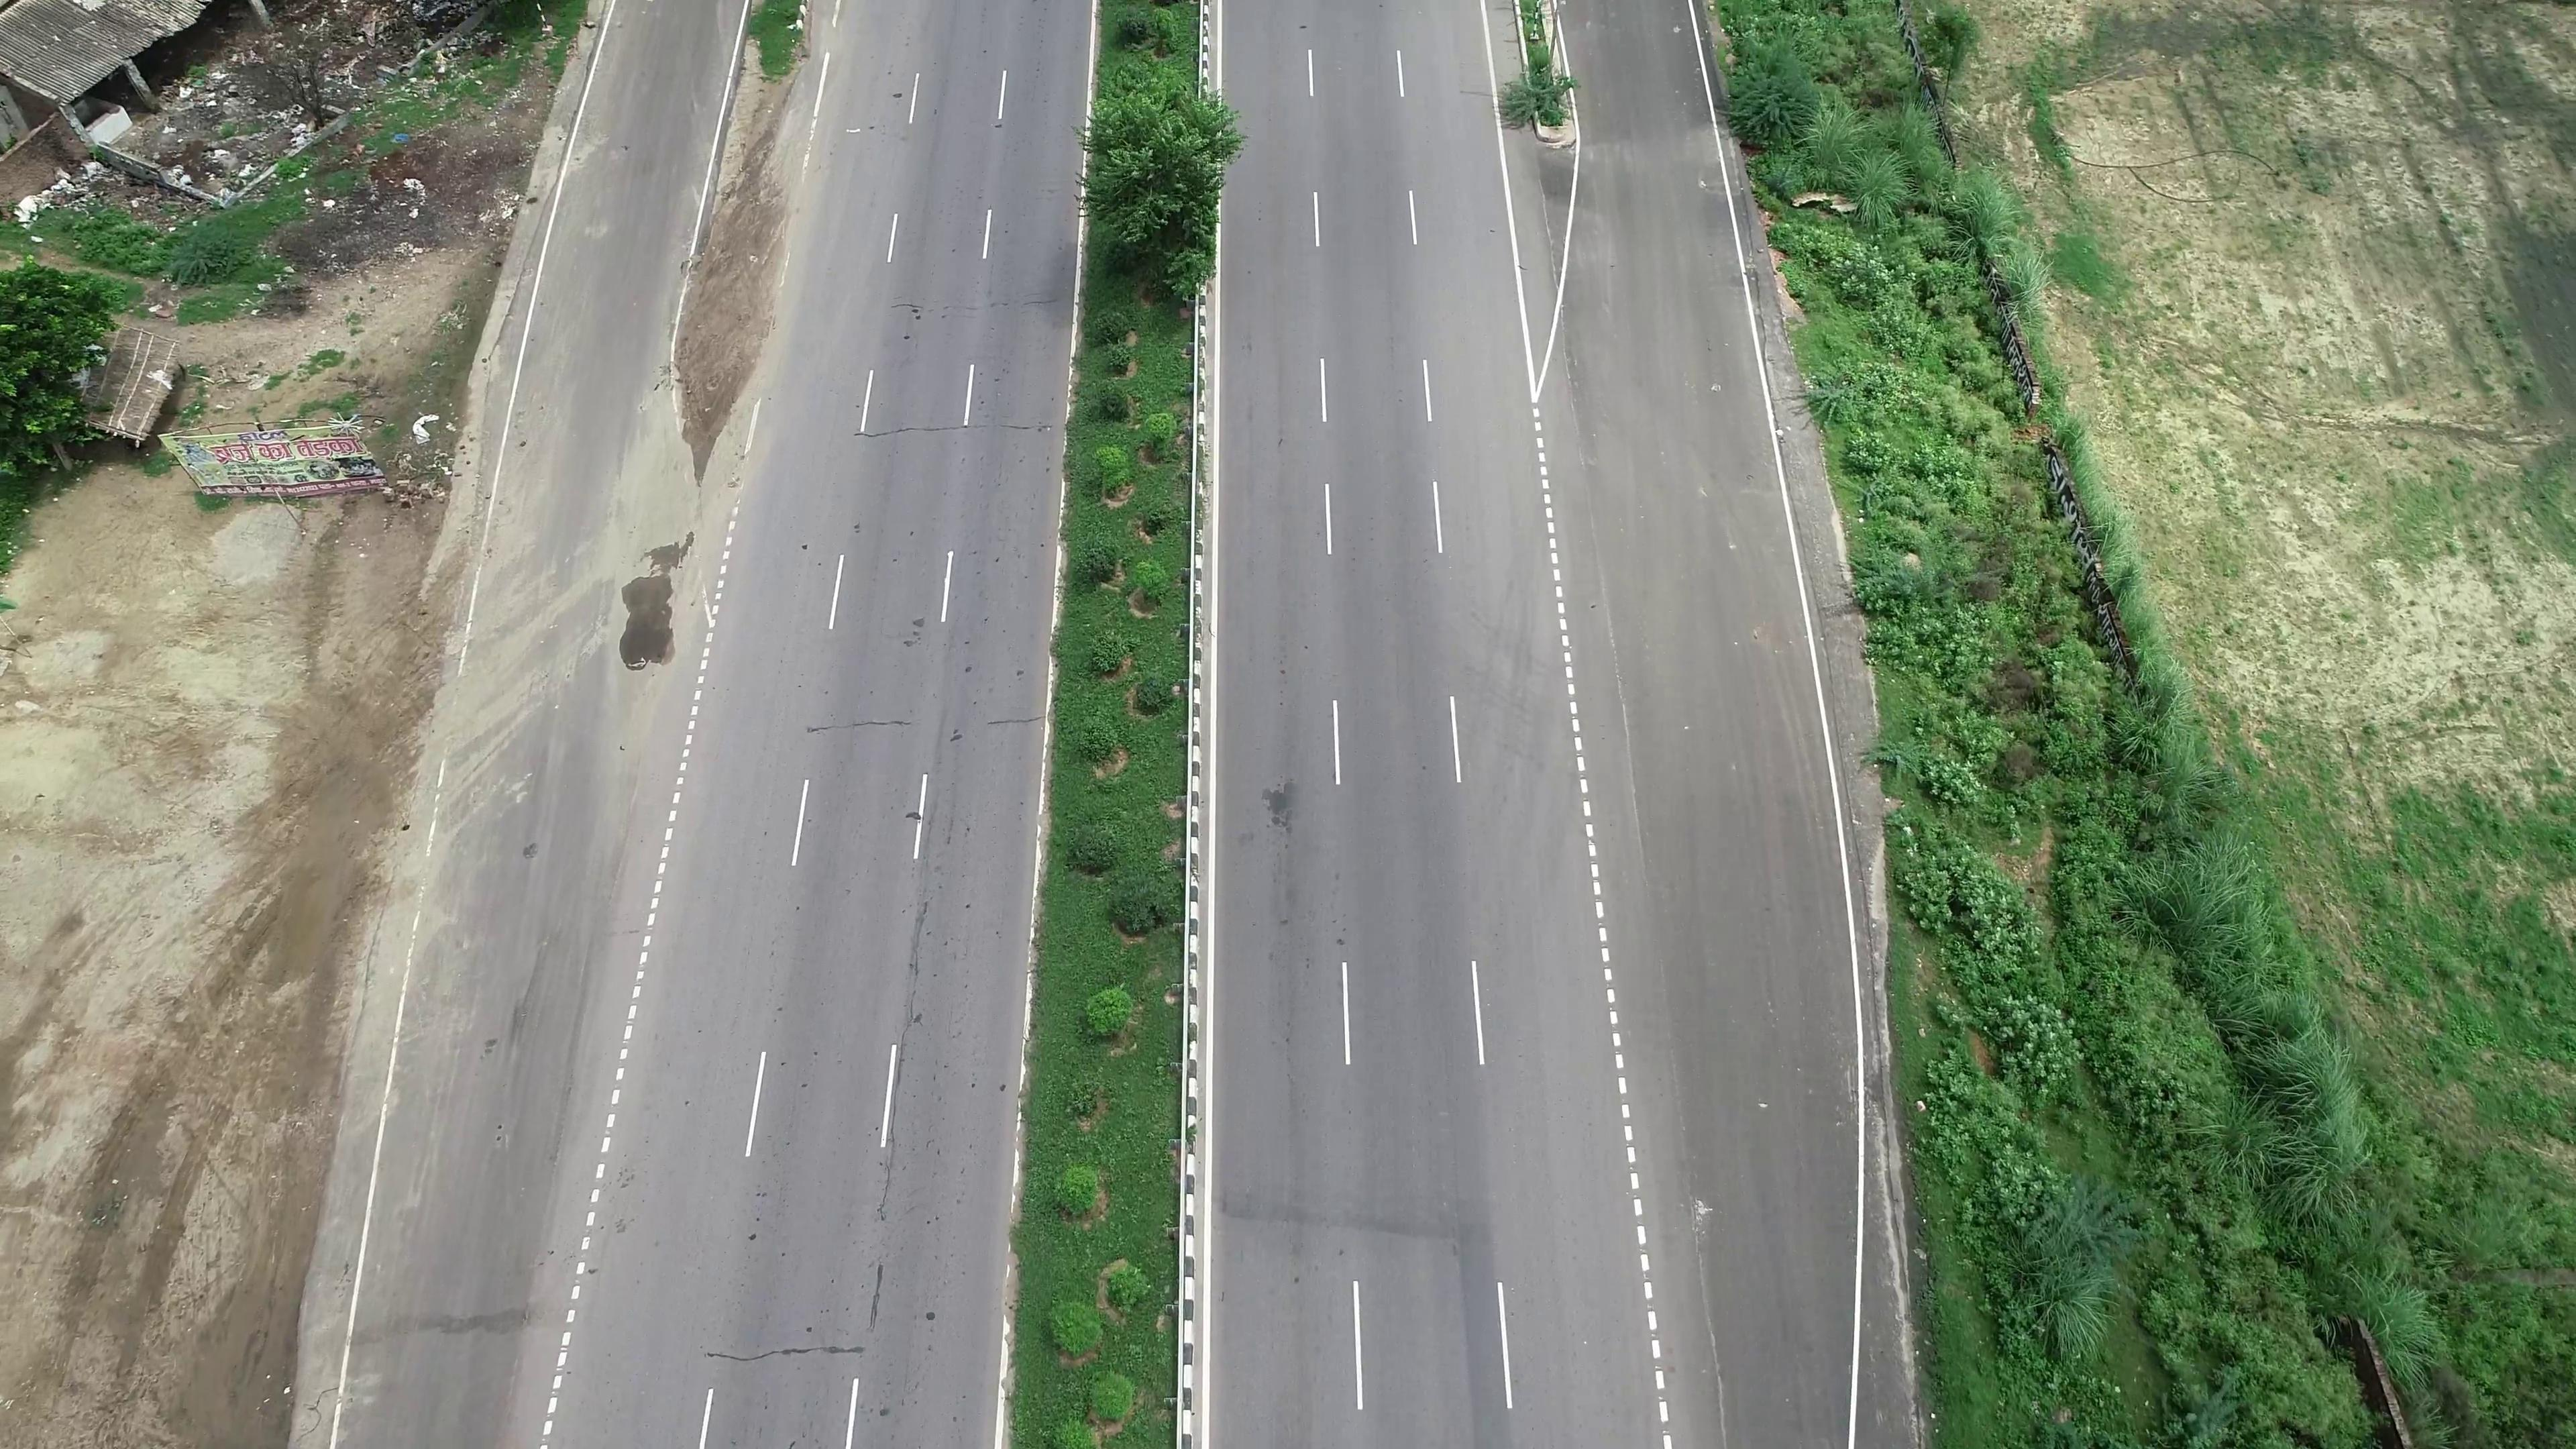Longitudinal_cracks: (869, 892, 939, 1214)
